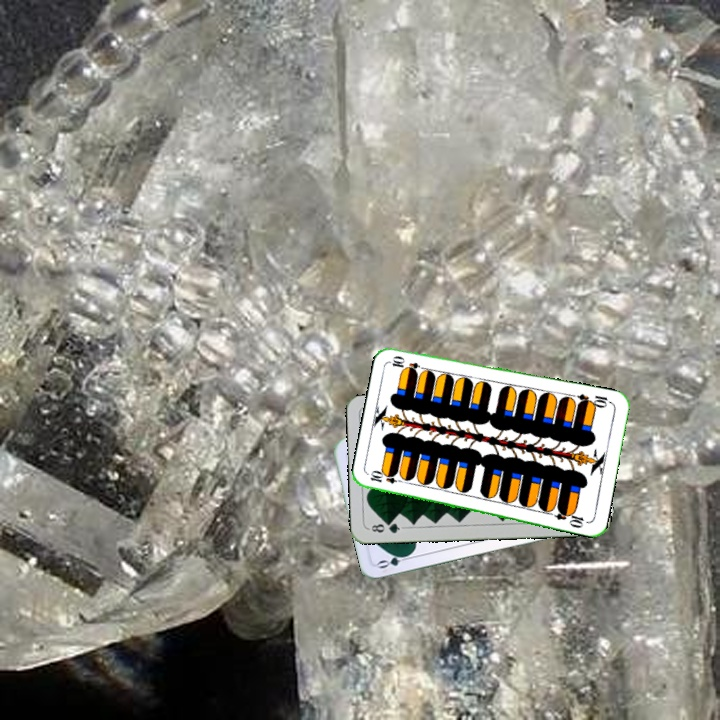E10: (574, 389, 614, 410), (366, 469, 407, 486)
G8: (365, 518, 406, 536)
GO: (374, 549, 414, 571)
